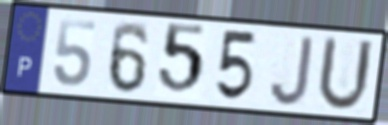5: (156, 21, 209, 102), (213, 28, 262, 104), (51, 16, 99, 88)
6: (109, 20, 152, 96)
J: (268, 33, 316, 108)
U: (314, 33, 376, 115)
